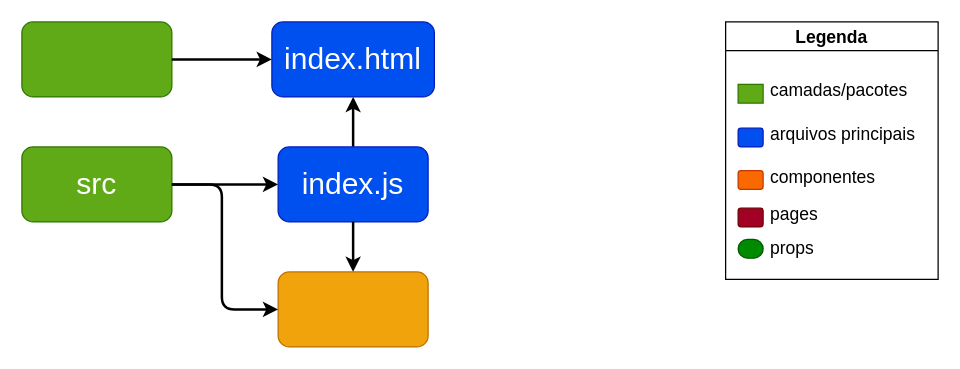
Image size: 960x369. Some labels were removed from this diagram. The centre of each missing label's shape, as x and y in pixels:
"app.js" belongs at (352,309).
"public" belongs at (96,59).
